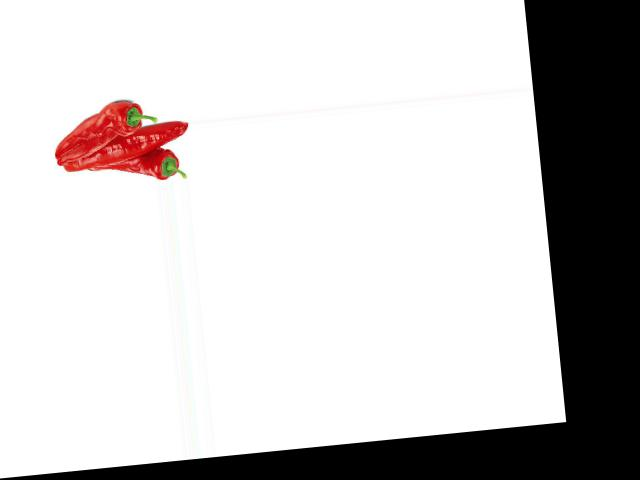bell_pepper: (48, 94, 162, 153)
